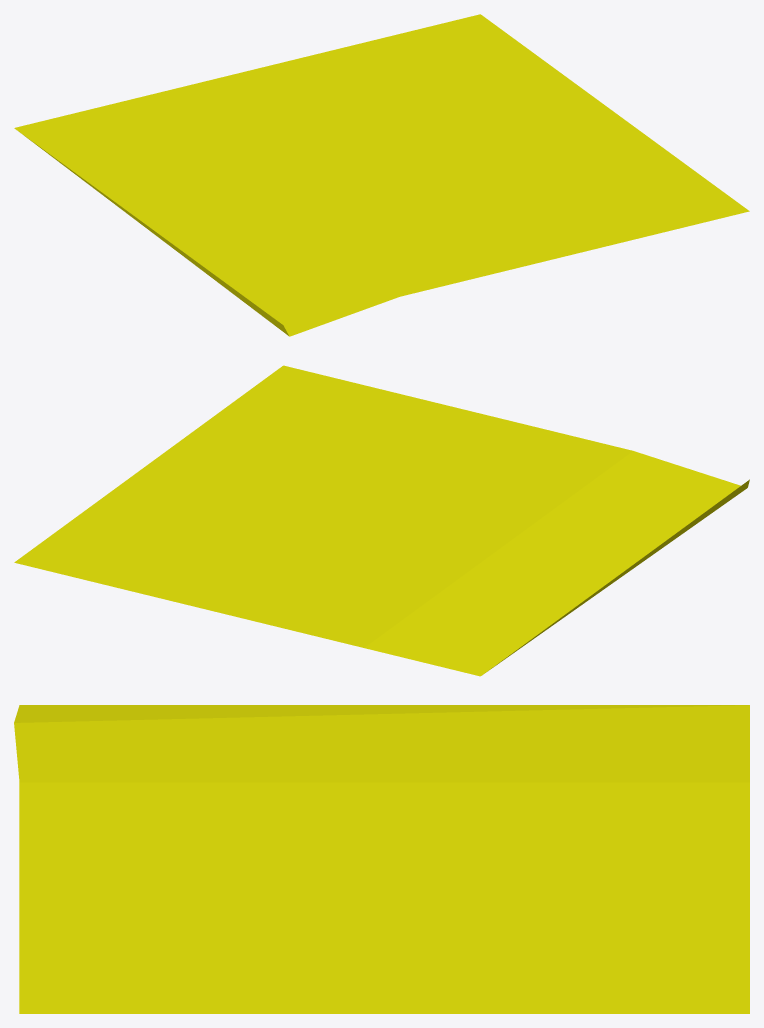
File: queso.glb
3 views of the same model, one above another, from view 1: azimuth 30°, elevation 25°; view 2: azimuth 150°, elevation 25°; view 3: azimuth 270°, elevation 25° (orthographic). The views are drawn at different scales.
Parts seen in each view (by area): view 1: Queso; view 2: Queso; view 3: Queso.
Part boxes in pixels (bbox=[...]): Queso: bbox=[14, 14, 749, 336]; Queso: bbox=[14, 365, 749, 676]; Queso: bbox=[14, 705, 749, 1013].
Size of the model in its own units: 1.79 by 0.0408 by 1.8.
